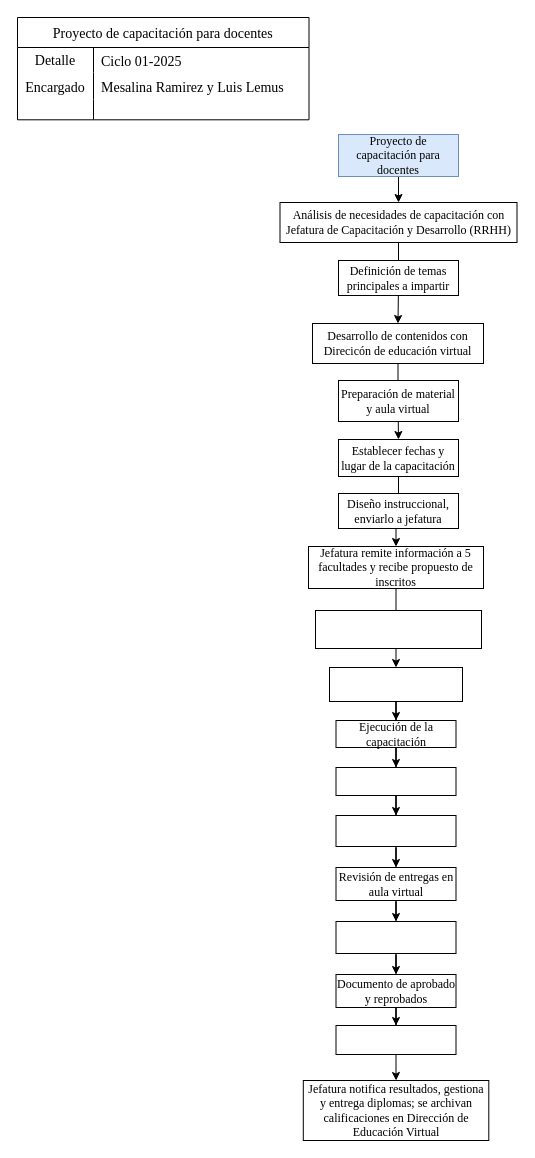
This 535x1158 diagram has some shape labels left out. The shapes that lost their labels are listed below. From the top down, each one's centre as x and y in pixels, then its label:
pixel 398 629: Listado de participantes enviado a Dirección de Educación Virtual
pixel 395 684: Área técnica habilita aula virtual y registra usuarios
pixel 395 781: Control de asistencia
pixel 395 830: Jornadas de toma de video
pixel 395 937: Calificación de actividades
pixel 395 1039: Resultados remitidos a jefatura
